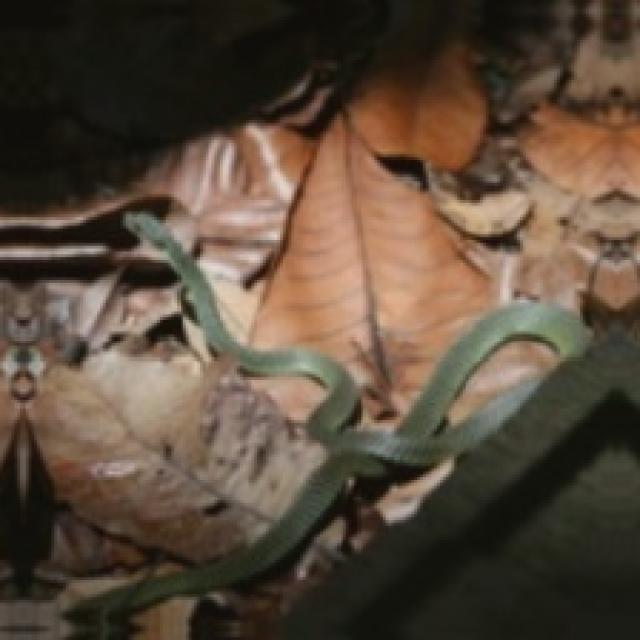paradise tree snake: (69, 211, 586, 637)
